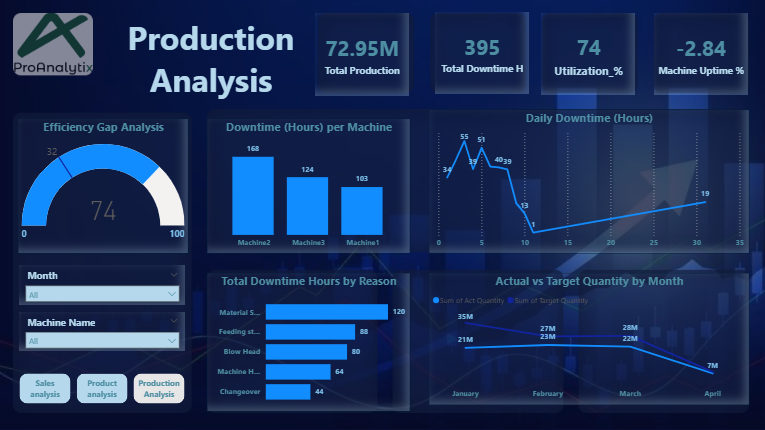

The dashboard page shown, as its layout file describes it:
{"tool":"powerbi","page":{"name":"Production Analysis","canvas":[1280,720],"ordinal":2},"visuals":[{"type":"card","fields":{"Values":["_Production_Analysis_Measures.Machine Uptime %"]},"box":[1095,23.3,156,136],"z":0},{"type":"card","fields":{"Values":["_Production_Analysis_Measures.Total_Downtime_Hours"]},"box":[730,20,156.7,136.7],"z":1000},{"type":"card","fields":{"Values":["_Production_Analysis_Measures.Utilization_%"]},"box":[906.7,23.3,156.7,136.7],"z":2000},{"type":"card","fields":{"Values":["_Production_Analysis_Measures.Total_Production_Output"]},"box":[530,23.3,156.7,136.7],"z":3000},{"type":"barChart","title":"Total Downtime Hours by Reason","fields":{"Y":["_Production_Analysis_Measures.Total_Downtime_Hours"],"Category":["Fact_producton.Downtime"]},"box":[348.8,455,338.8,231.2],"z":4000},{"type":"lineChart","title":"Daily Downtime (Hours)","fields":{"Y":["_Production_Analysis_Measures.Total_Downtime_Hours"],"Category":["Fact_producton.Start.Variation.Date Hierarchy.Day"]},"box":[718.8,182.5,533.8,240],"z":5000},{"type":"gauge","title":"Efficiency Gap Analysis","fields":{"Y":["_Production_Analysis_Measures.Utilization_%"],"MinValue":["_Measures_Sales Performance Analysise.VAR Minval"],"MaxValue":["_Production_Analysis_Measures.Var maxval2"],"TargetValue":["Sum(Fact_producton.Efficiency Target)"]},"box":[33.8,197.5,283.8,225],"z":6000},{"type":"lineChart","title":"Actual vs Target Quantity by Month","fields":{"Category":["Fact_producton.Start.Variation.Date Hierarchy.Month"],"Y":["Sum(Fact_producton.Act Quantity)","Sum(Fact_producton.Target Quantity)"]},"box":[718.8,455,533.8,220],"z":7000},{"type":"columnChart","title":"Downtime (Hours) per Machine","fields":{"Y":["_Production_Analysis_Measures.Total_Downtime_Hours"],"Category":["Fact_producton.Machine Name"]},"box":[348.8,197.5,338.8,225],"z":8000},{"type":"pageNavigator","box":[36.7,621.7,276.7,50],"z":9000},{"type":"textbox","box":[213.3,20,288.3,165],"z":9001},{"type":"slicer","fields":{"Values":["Fact_producton.Start.Variation.Date Hierarchy.Month"]},"box":[36.7,441.7,276.7,65],"z":9002},{"type":"slicer","fields":{"Values":["Fact_producton.Machine Name"]},"box":[36.7,520,276.7,65],"z":9003}]}

Visuals, with their boxes in screenshot pixels (x1, y1, x2, y2), scaled from the page's 1280x720 canvas onto the 765x430 screenshot:
card - _Production_Analysis_Measures.Machine Uptime %: locate(654, 14, 748, 95)
card - _Production_Analysis_Measures.Total_Downtime_Hours: locate(436, 12, 530, 94)
card - _Production_Analysis_Measures.Utilization_%: locate(542, 14, 636, 96)
card - _Production_Analysis_Measures.Total_Production_Output: locate(317, 14, 410, 96)
"Total Downtime Hours by Reason" barChart: locate(208, 272, 411, 410)
"Daily Downtime (Hours)" lineChart: locate(430, 109, 749, 252)
"Efficiency Gap Analysis" gauge: locate(20, 118, 190, 252)
"Actual vs Target Quantity by Month" lineChart: locate(430, 272, 749, 403)
"Downtime (Hours) per Machine" columnChart: locate(208, 118, 411, 252)
pageNavigator: locate(22, 371, 187, 401)
textbox: locate(127, 12, 300, 110)
slicer - Fact_producton.Start.Variation.Date Hierarchy.Month: locate(22, 264, 187, 303)
slicer - Fact_producton.Machine Name: locate(22, 311, 187, 349)
